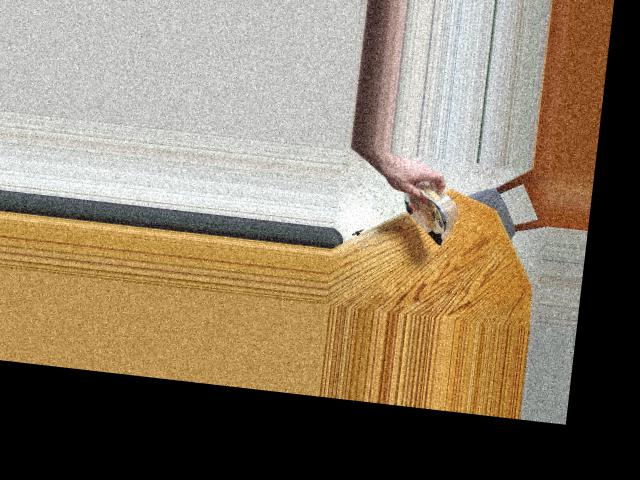cheese: (381, 180, 470, 247)
